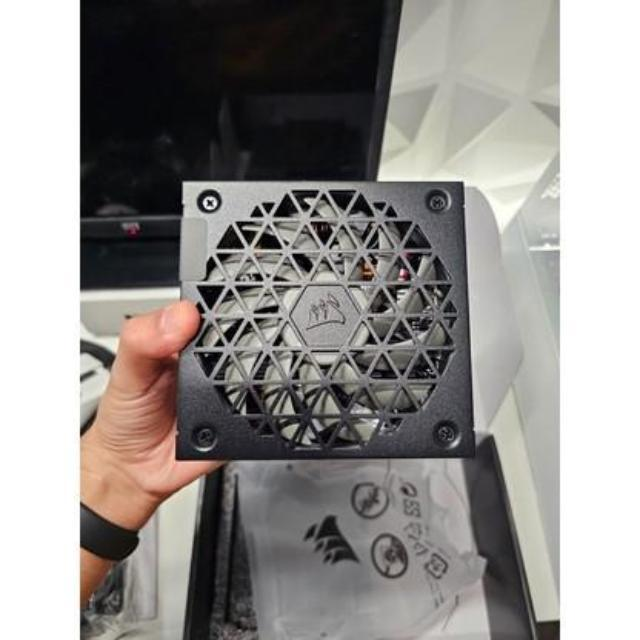PSU: (163, 168, 485, 472)
